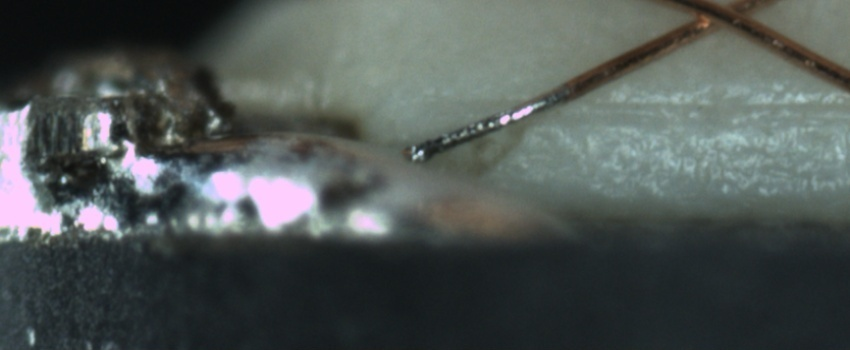CL: (682, 1, 767, 32)
DL: (438, 74, 849, 136)
TS: (411, 86, 570, 163)
